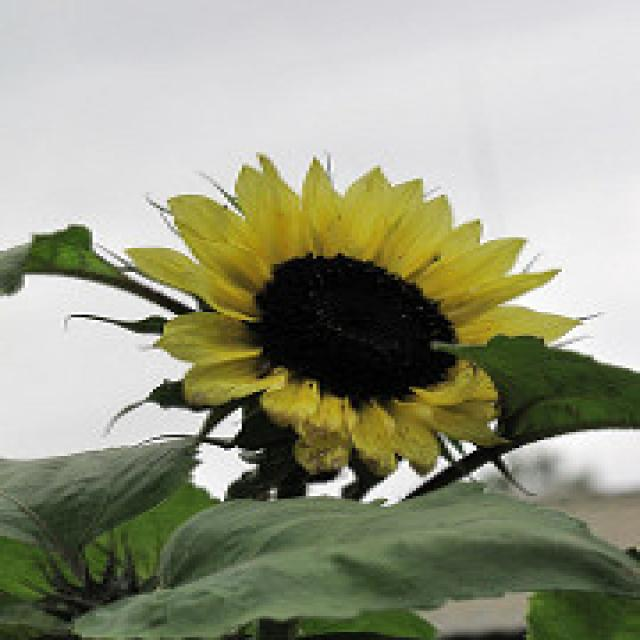sunflower: (134, 144, 596, 480)
